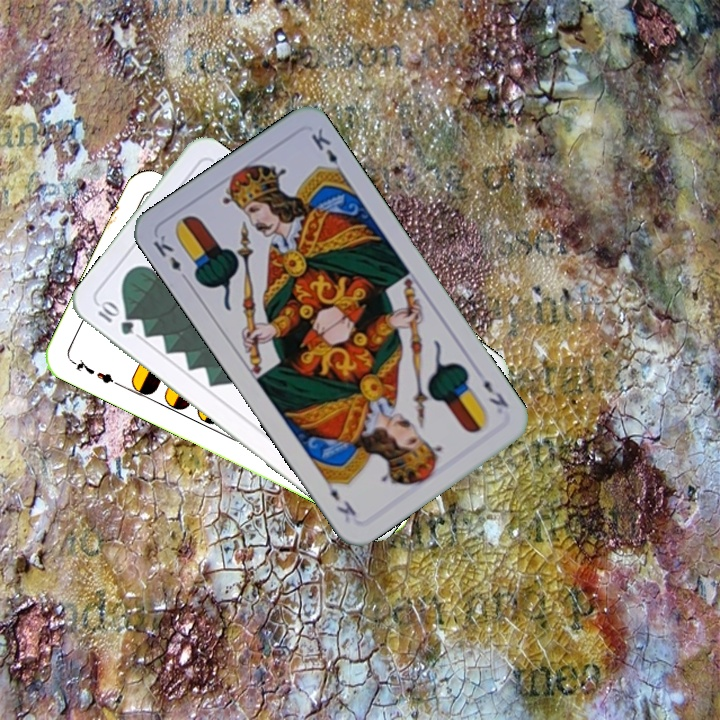E7: (67, 354, 122, 389)
EK: (149, 230, 192, 285), (479, 375, 512, 411)
G10: (94, 297, 137, 338)
